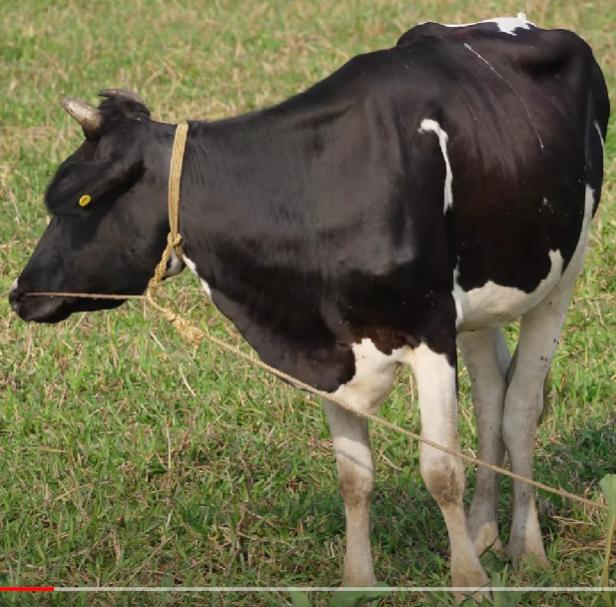cow: (7, 20, 611, 607)
